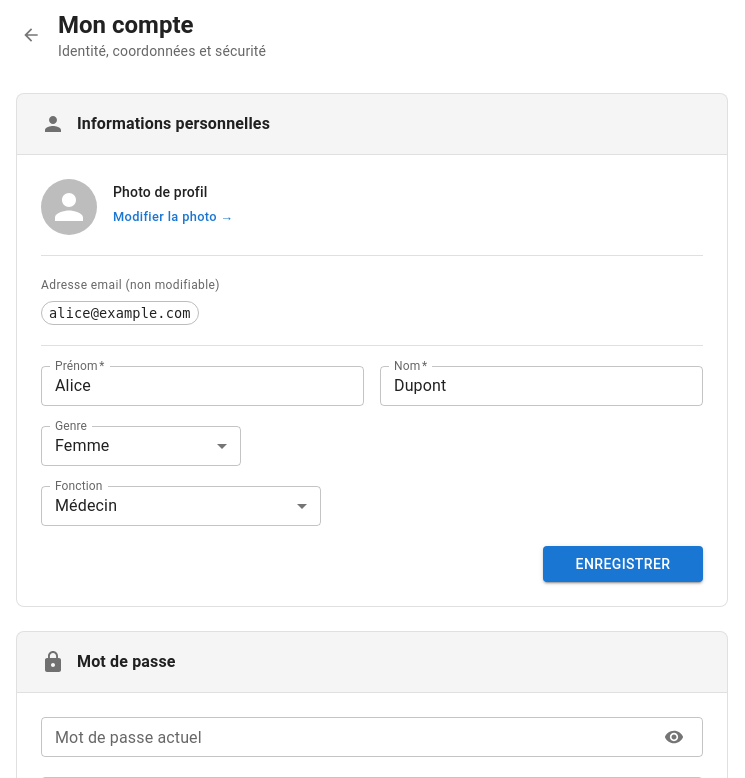
Scenario: ProfileAccountPage — sauvegarde infos manager › affiche l'erreur serveur sous le bouton
Click the button "Enregistrer": (623, 564) x1=543 y1=546 x2=703 y2=582
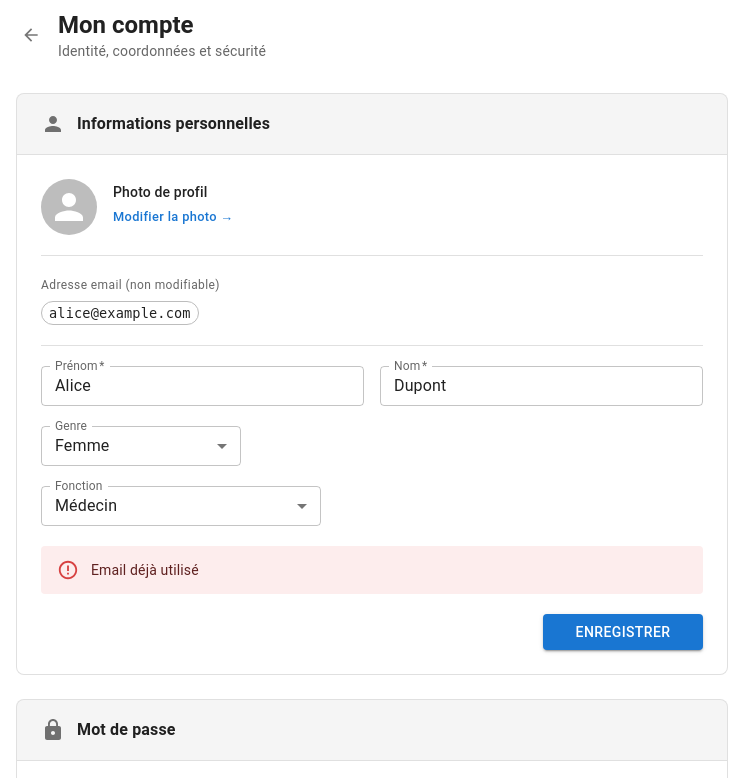
Expected: the text "Email déjà utilisé" is shown, x1=91 y1=562 x2=199 y2=578
